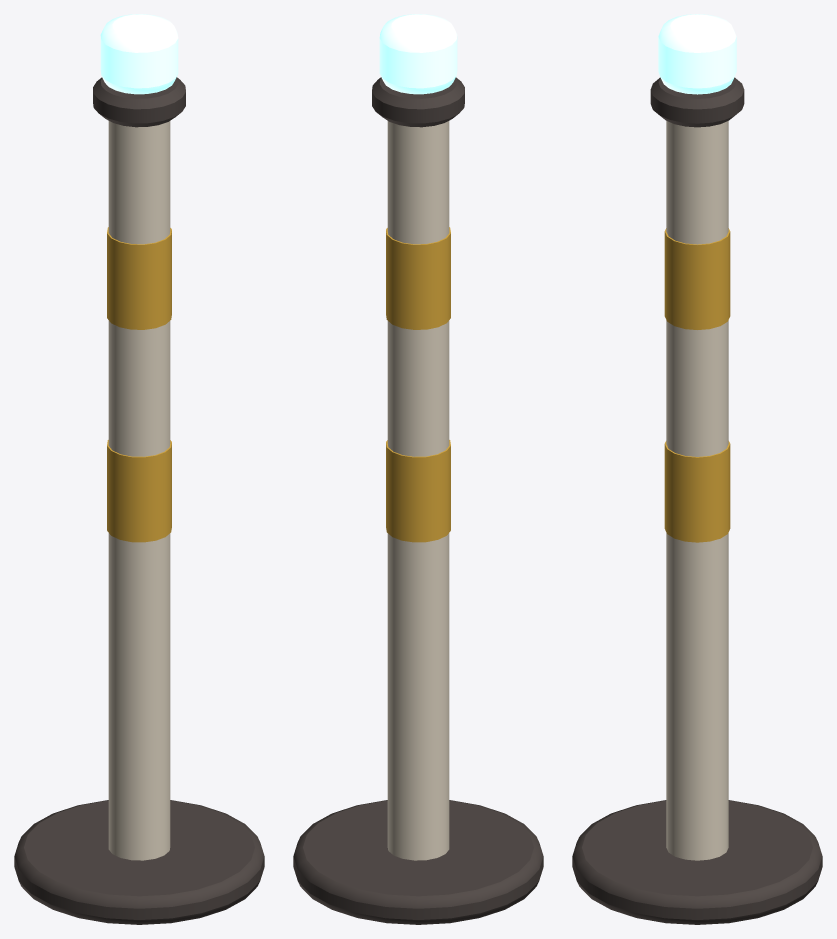
The model's file is prop_beacon.glb.
3 renders of one model, left to right at view 1: azimuth 30°, elevation 25°; view 2: azimuth 150°, elevation 25°; view 3: azimuth 270°, elevation 25°, orthographic.
Visible parts, largest first — view 1: post-convcol, base, band0.55, cap, band0.85, collar; view 2: post-convcol, base, band0.55, cap, band0.85, collar; view 3: post-convcol, base, band0.85, band0.55, cap, collar.
Boxes of the visible parts, bbox=[...] form: post-convcol: bbox=[108, 121, 170, 860]; base: bbox=[14, 800, 264, 924]; band0.55: bbox=[107, 440, 171, 542]; cap: bbox=[100, 14, 178, 94]; band0.85: bbox=[107, 227, 171, 329]; collar: bbox=[93, 77, 185, 127]; post-convcol: bbox=[387, 121, 449, 860]; base: bbox=[293, 800, 543, 924]; band0.55: bbox=[386, 440, 450, 542]; cap: bbox=[379, 14, 457, 94]; band0.85: bbox=[386, 227, 450, 329]; collar: bbox=[372, 77, 464, 127]; post-convcol: bbox=[666, 121, 728, 860]; base: bbox=[572, 800, 822, 924]; band0.85: bbox=[664, 228, 730, 329]; band0.55: bbox=[664, 441, 730, 542]; cap: bbox=[658, 14, 736, 94]; collar: bbox=[650, 77, 744, 127].
Bounding box in the file's own units: 0.32 × 1.2 × 0.32.
